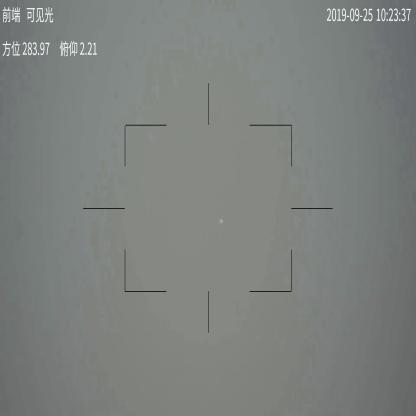uav: (218, 218, 224, 224)
